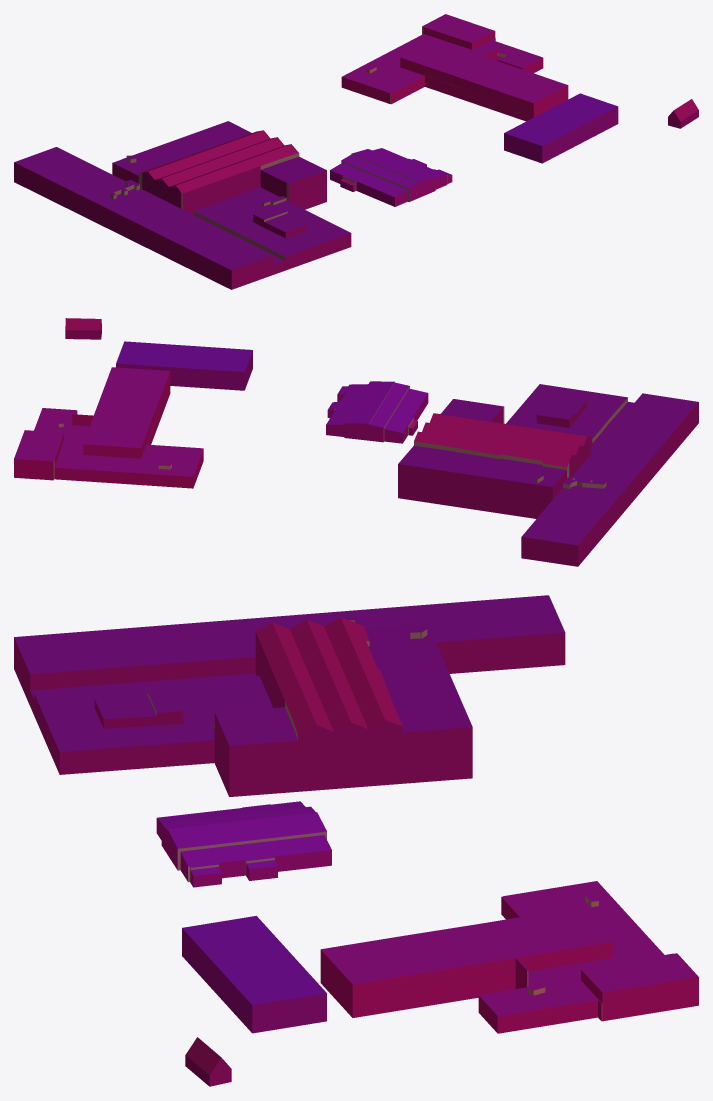
File: buildings_11_4.glb
3 renders of one model, top to bottom at view 1: azimuth 30°, elevation 25°; view 2: azimuth 150°, elevation 25°; view 3: azimuth 270°, elevation 25°, orthographic. The views are drawn at different scales.
Visible parts, largest first — view 1: buildings_11_4; view 2: buildings_11_4; view 3: buildings_11_4.
Boxes of the visible parts, <box> form: buildings_11_4: <box>14,14,698,289</box>; buildings_11_4: <box>14,318,698,566</box>; buildings_11_4: <box>14,595,698,1086</box>.
Size of the model in its own units: 224 by 14.87 by 141.
